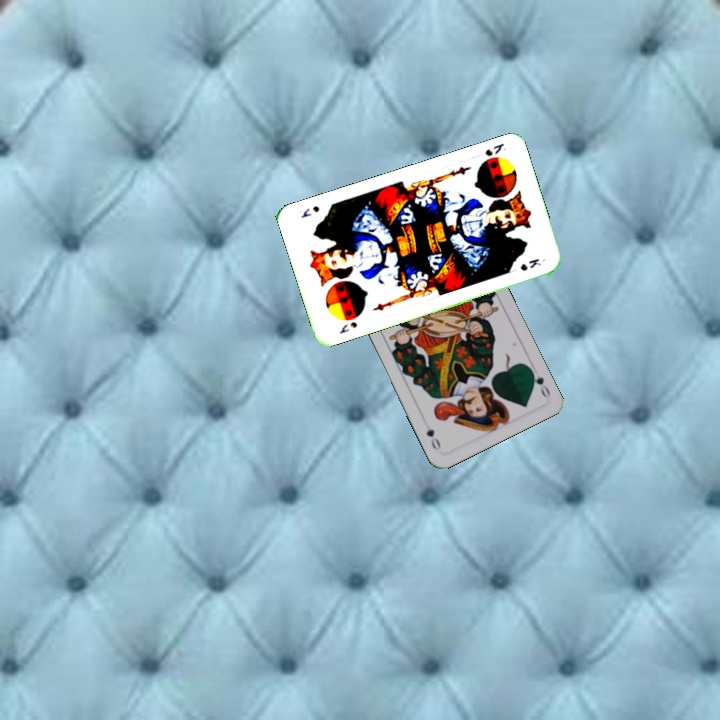GO: (526, 364, 553, 401)
SK: (481, 139, 509, 159), (335, 318, 360, 336)
